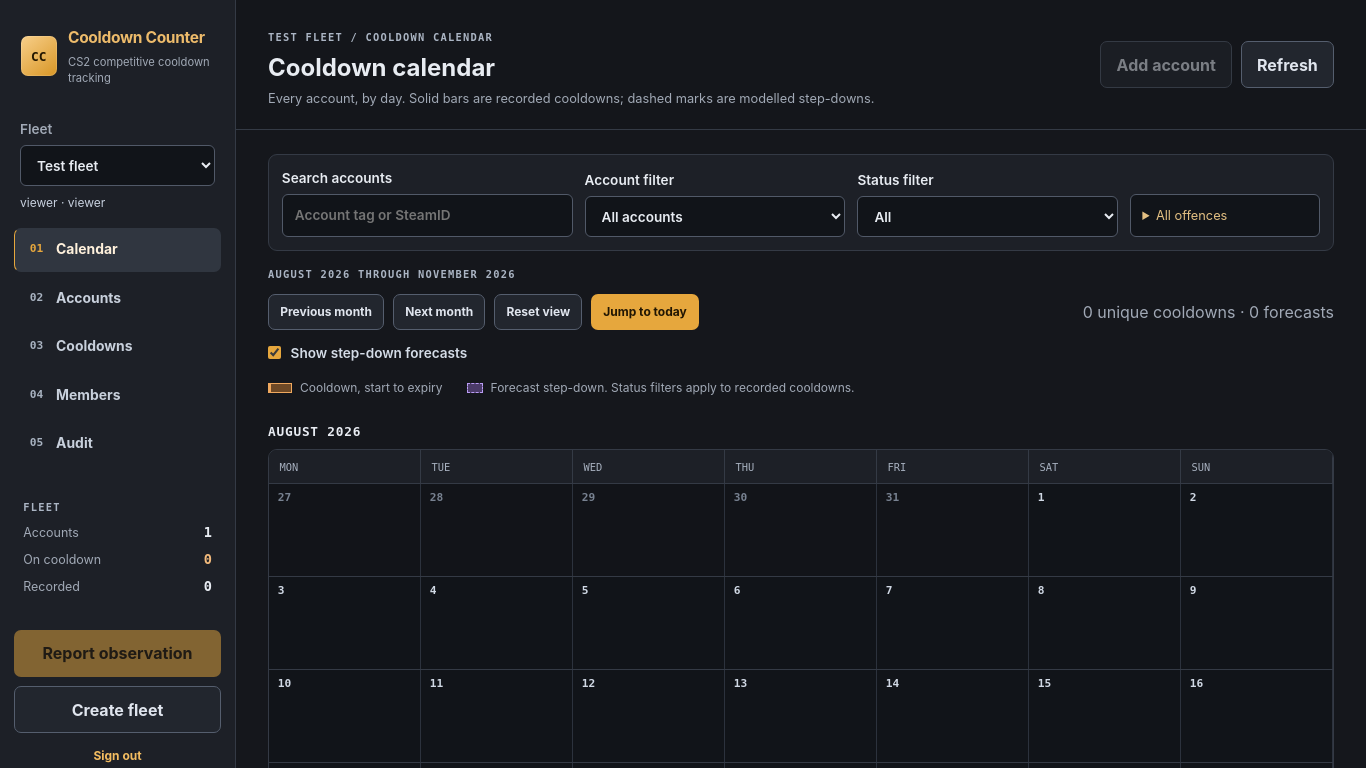
Test case: accessible fleet views in Chromium › renders a read-only viewer workspace and exact semantic navigation labels
Expected: the heading "Cooldown calendar" is shown, [268,53,495,82]
Expected: the button "Report observation" is disabled, [14,630,221,677]
Click the button "02 Accounts": coordinates (118, 298) [14,276,221,320]
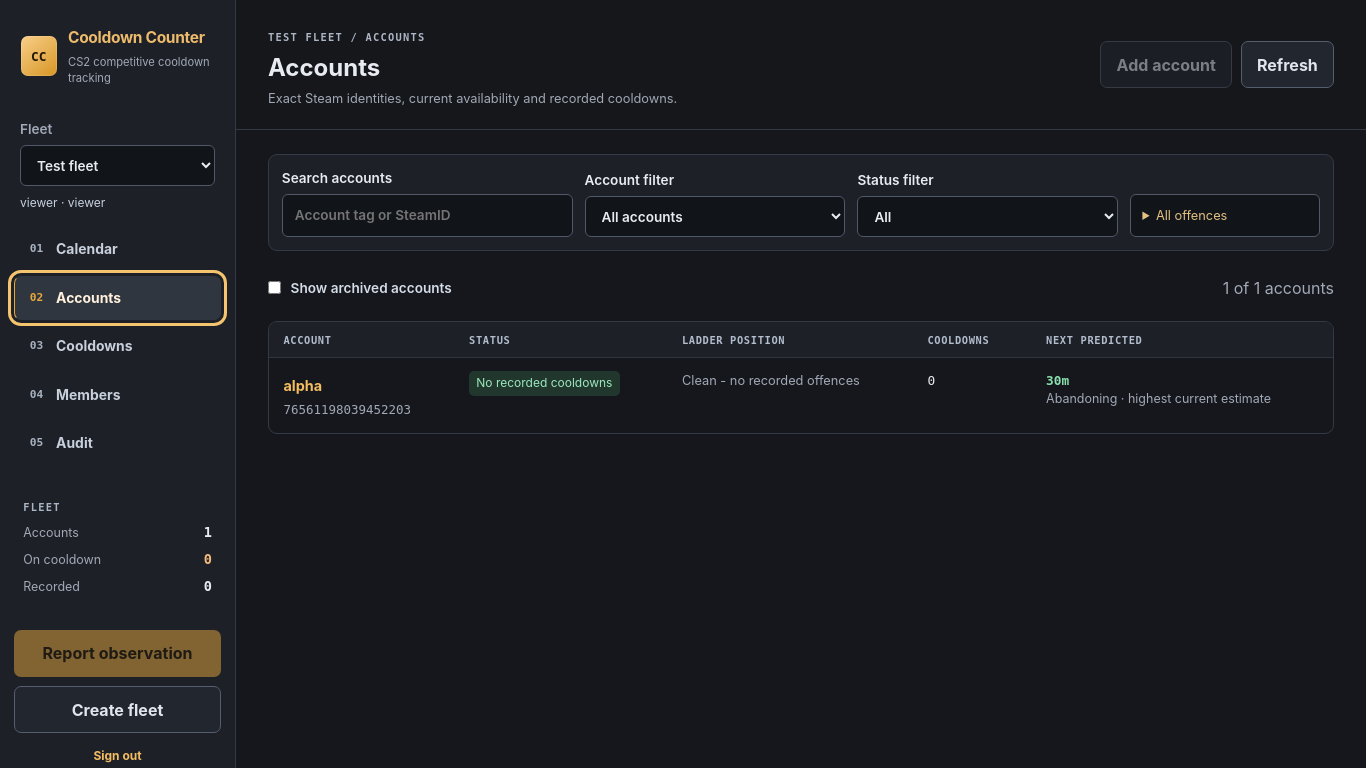
Expected: the heading "Accounts" is shown, [268,53,380,82]
Click the button "03 Cooldowns": coordinates (118, 347) [14,325,221,369]
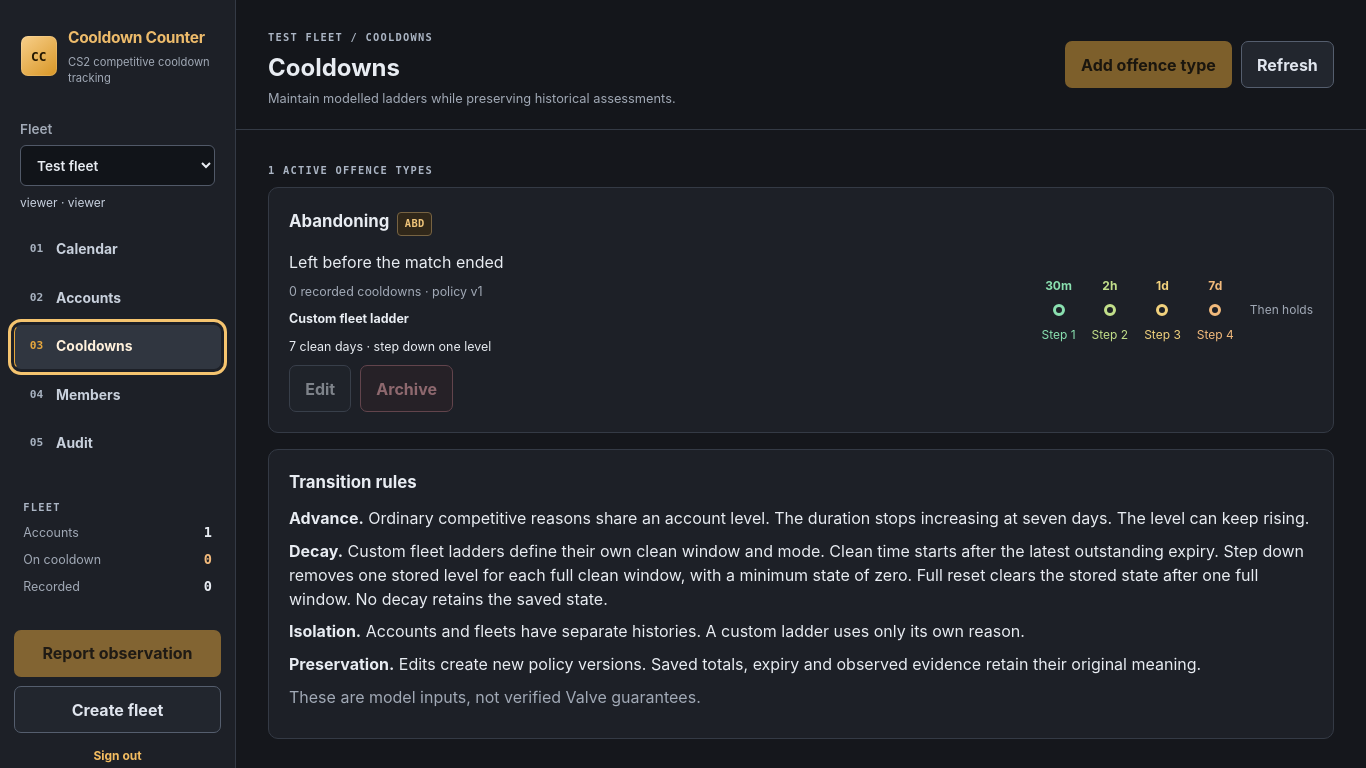
Expected: the button "Add offence type" is disabled, [1065,41,1232,88]
